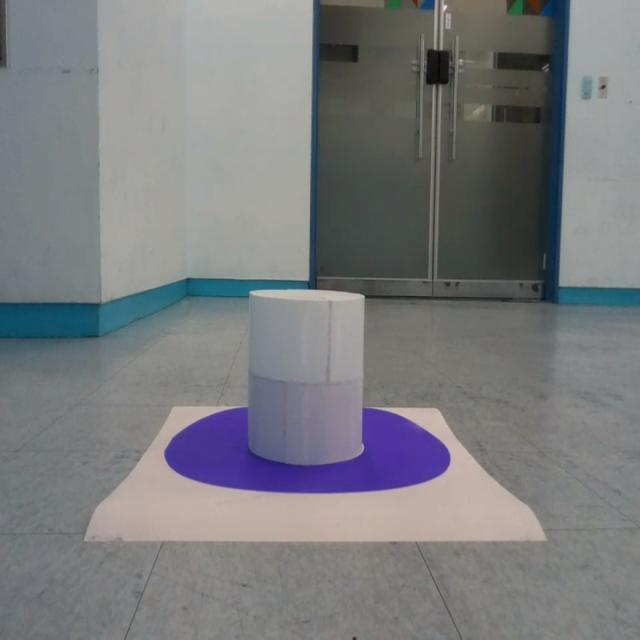cylinder: (247, 287, 366, 465)
